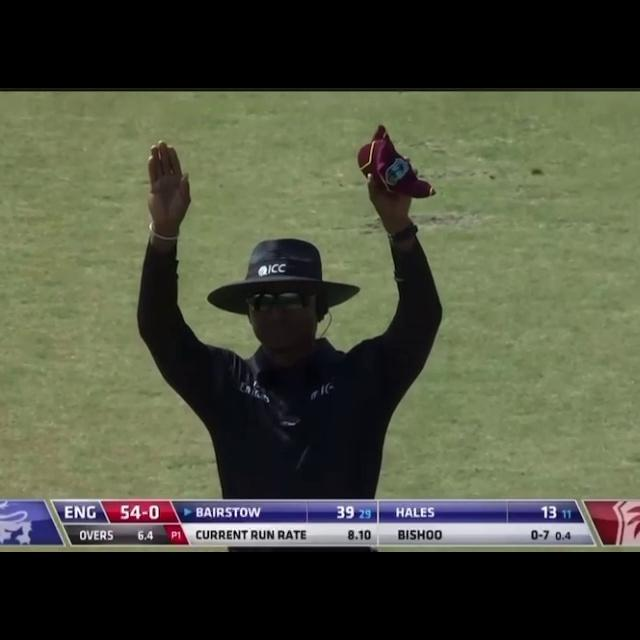umpire: (113, 88, 453, 508)
